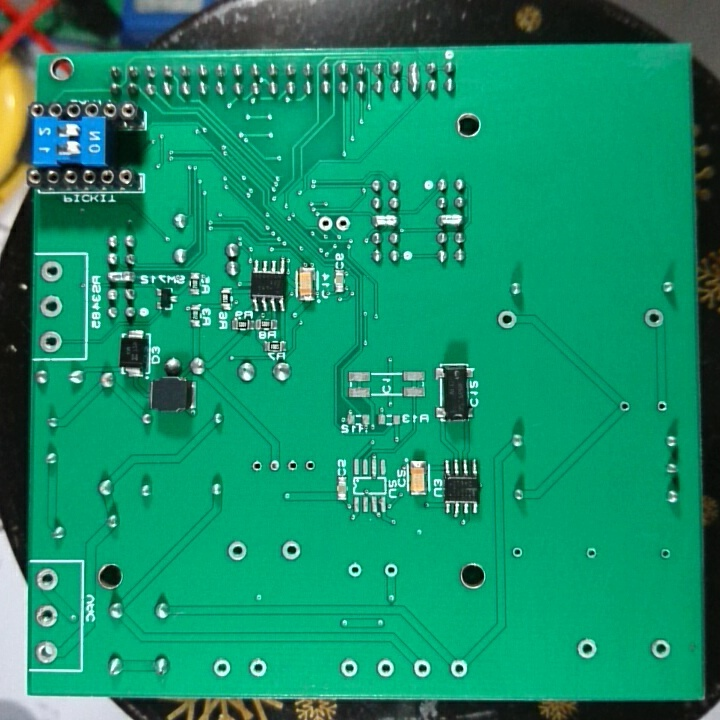F: (36, 328, 65, 356), (33, 603, 60, 632), (279, 537, 305, 566), (33, 638, 61, 664), (38, 259, 67, 284), (34, 566, 59, 594), (223, 538, 251, 563), (573, 636, 601, 661), (38, 293, 65, 318), (649, 635, 673, 663), (336, 655, 362, 680), (495, 306, 519, 332), (373, 657, 398, 680), (642, 306, 667, 329), (411, 658, 436, 680), (247, 655, 268, 680), (448, 656, 470, 679), (212, 655, 233, 679), (334, 212, 353, 238), (382, 560, 401, 581), (346, 560, 364, 581), (508, 543, 527, 562), (316, 214, 335, 232), (656, 546, 674, 565), (653, 398, 673, 415), (584, 544, 601, 562), (616, 398, 634, 415), (302, 455, 316, 476), (284, 456, 299, 475), (251, 457, 265, 475), (267, 458, 281, 476)
P: (367, 212, 403, 229), (407, 58, 422, 98), (106, 268, 139, 285), (436, 211, 468, 228)
